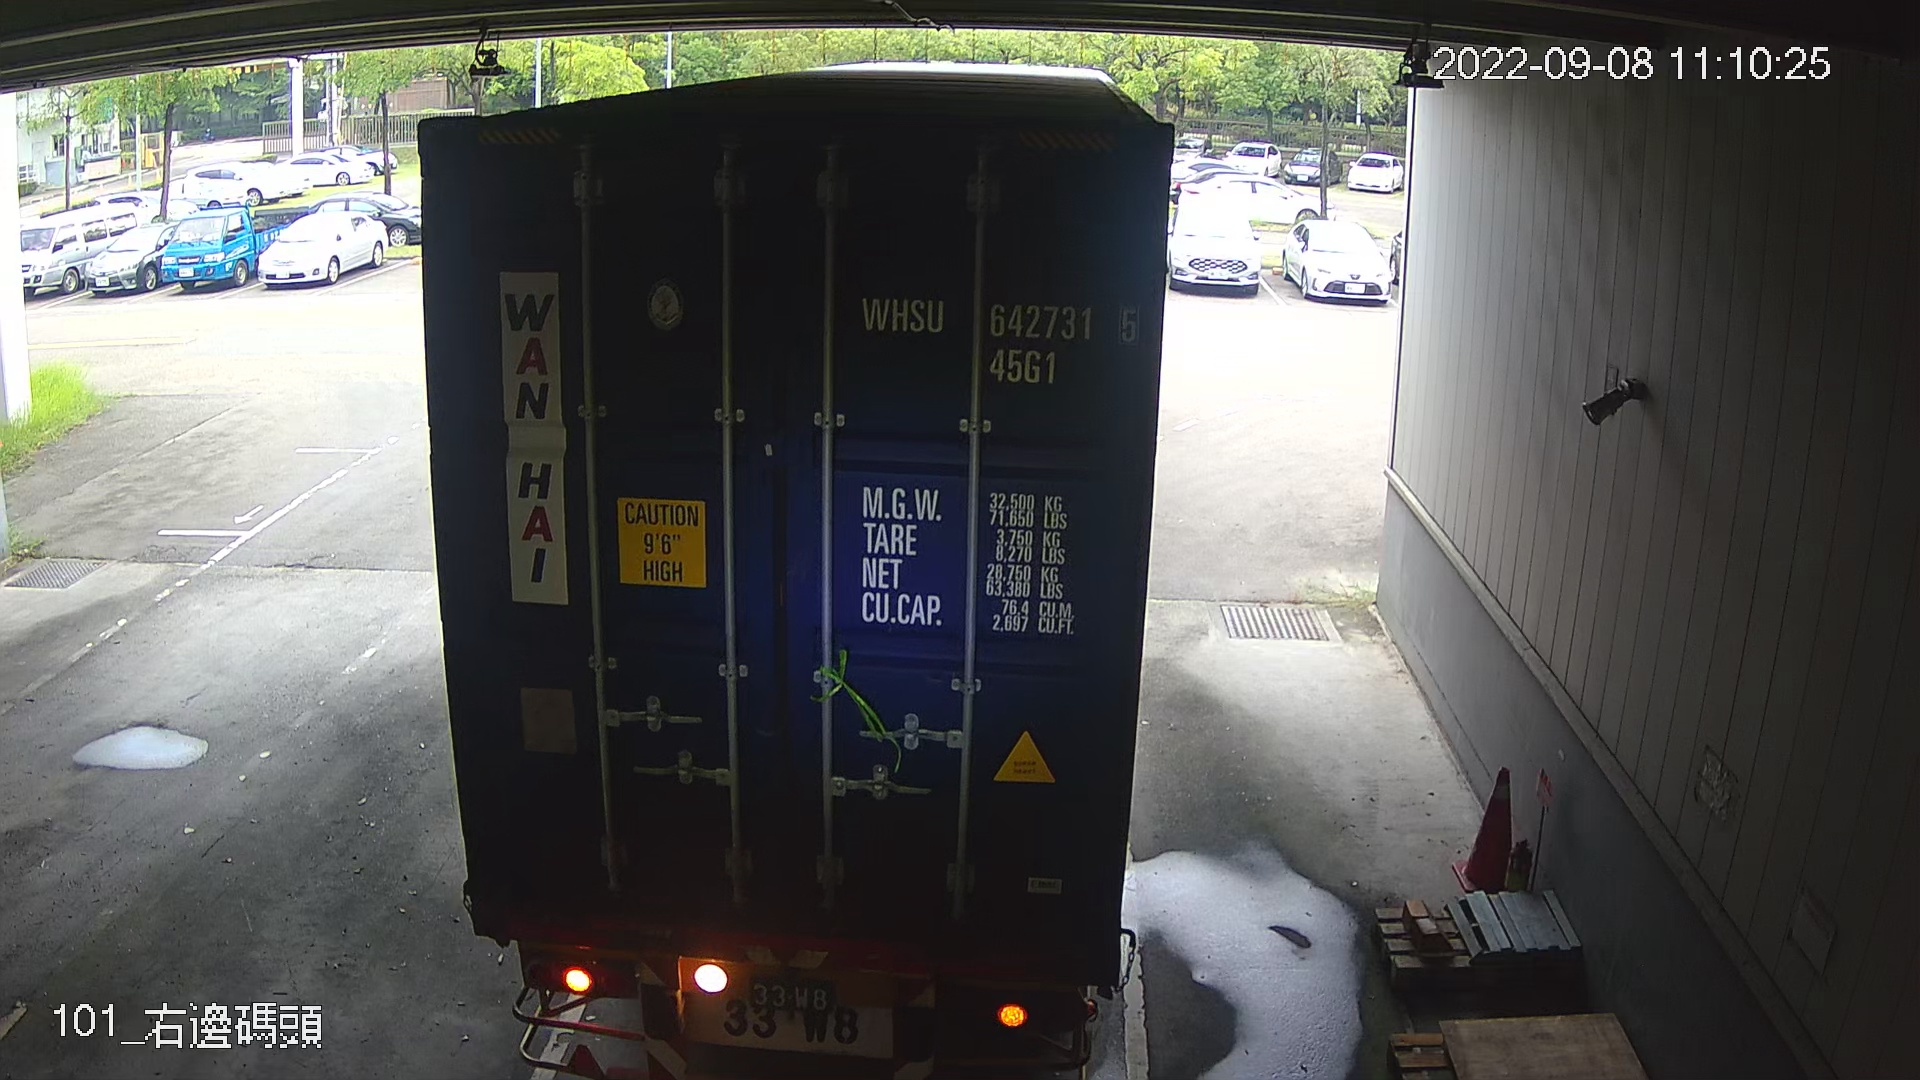container: (851, 280, 1149, 397)
